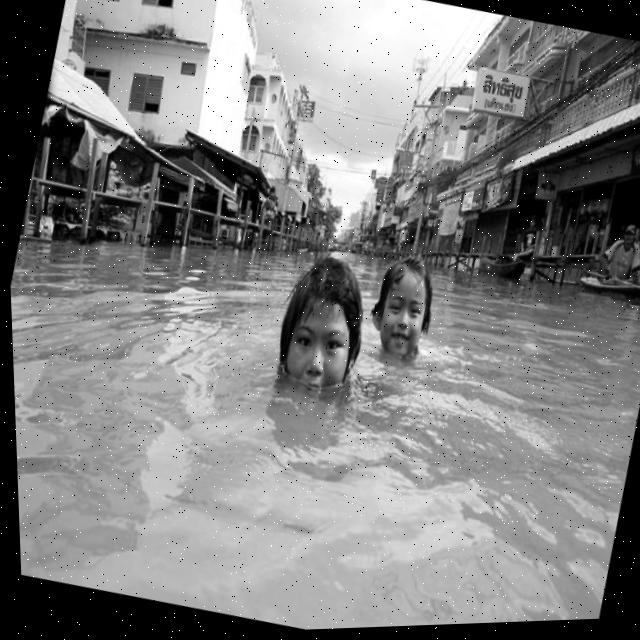civilian: (255, 239, 395, 420), (358, 236, 457, 376), (581, 212, 640, 302)
